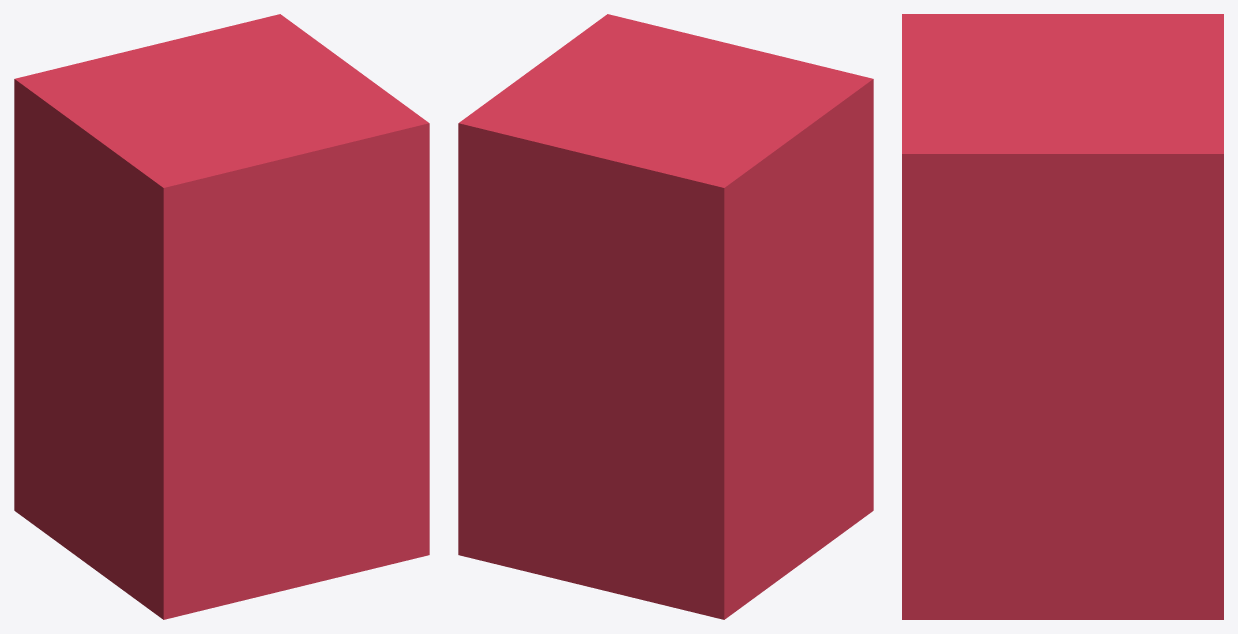
The model's file is Itr_Obj_Smallstickynote_Box_01.FBX.
3 renders of one model, left to right at view 1: azimuth 30°, elevation 25°; view 2: azimuth 150°, elevation 25°; view 3: azimuth 270°, elevation 25°, orthographic. The views are drawn at different scales.
Visible parts, largest first — view 1: Itr_Obj_Smallstickynote_Box_01; view 2: Itr_Obj_Smallstickynote_Box_01; view 3: Itr_Obj_Smallstickynote_Box_01.
Part boxes in pixels (box(x1,y1,x2,y2)): Itr_Obj_Smallstickynote_Box_01: box(14, 14, 429, 619); Itr_Obj_Smallstickynote_Box_01: box(458, 14, 873, 619); Itr_Obj_Smallstickynote_Box_01: box(902, 14, 1223, 619).
Bounding box in the file's own units: 0.8876 × 1.38 × 0.8625.
